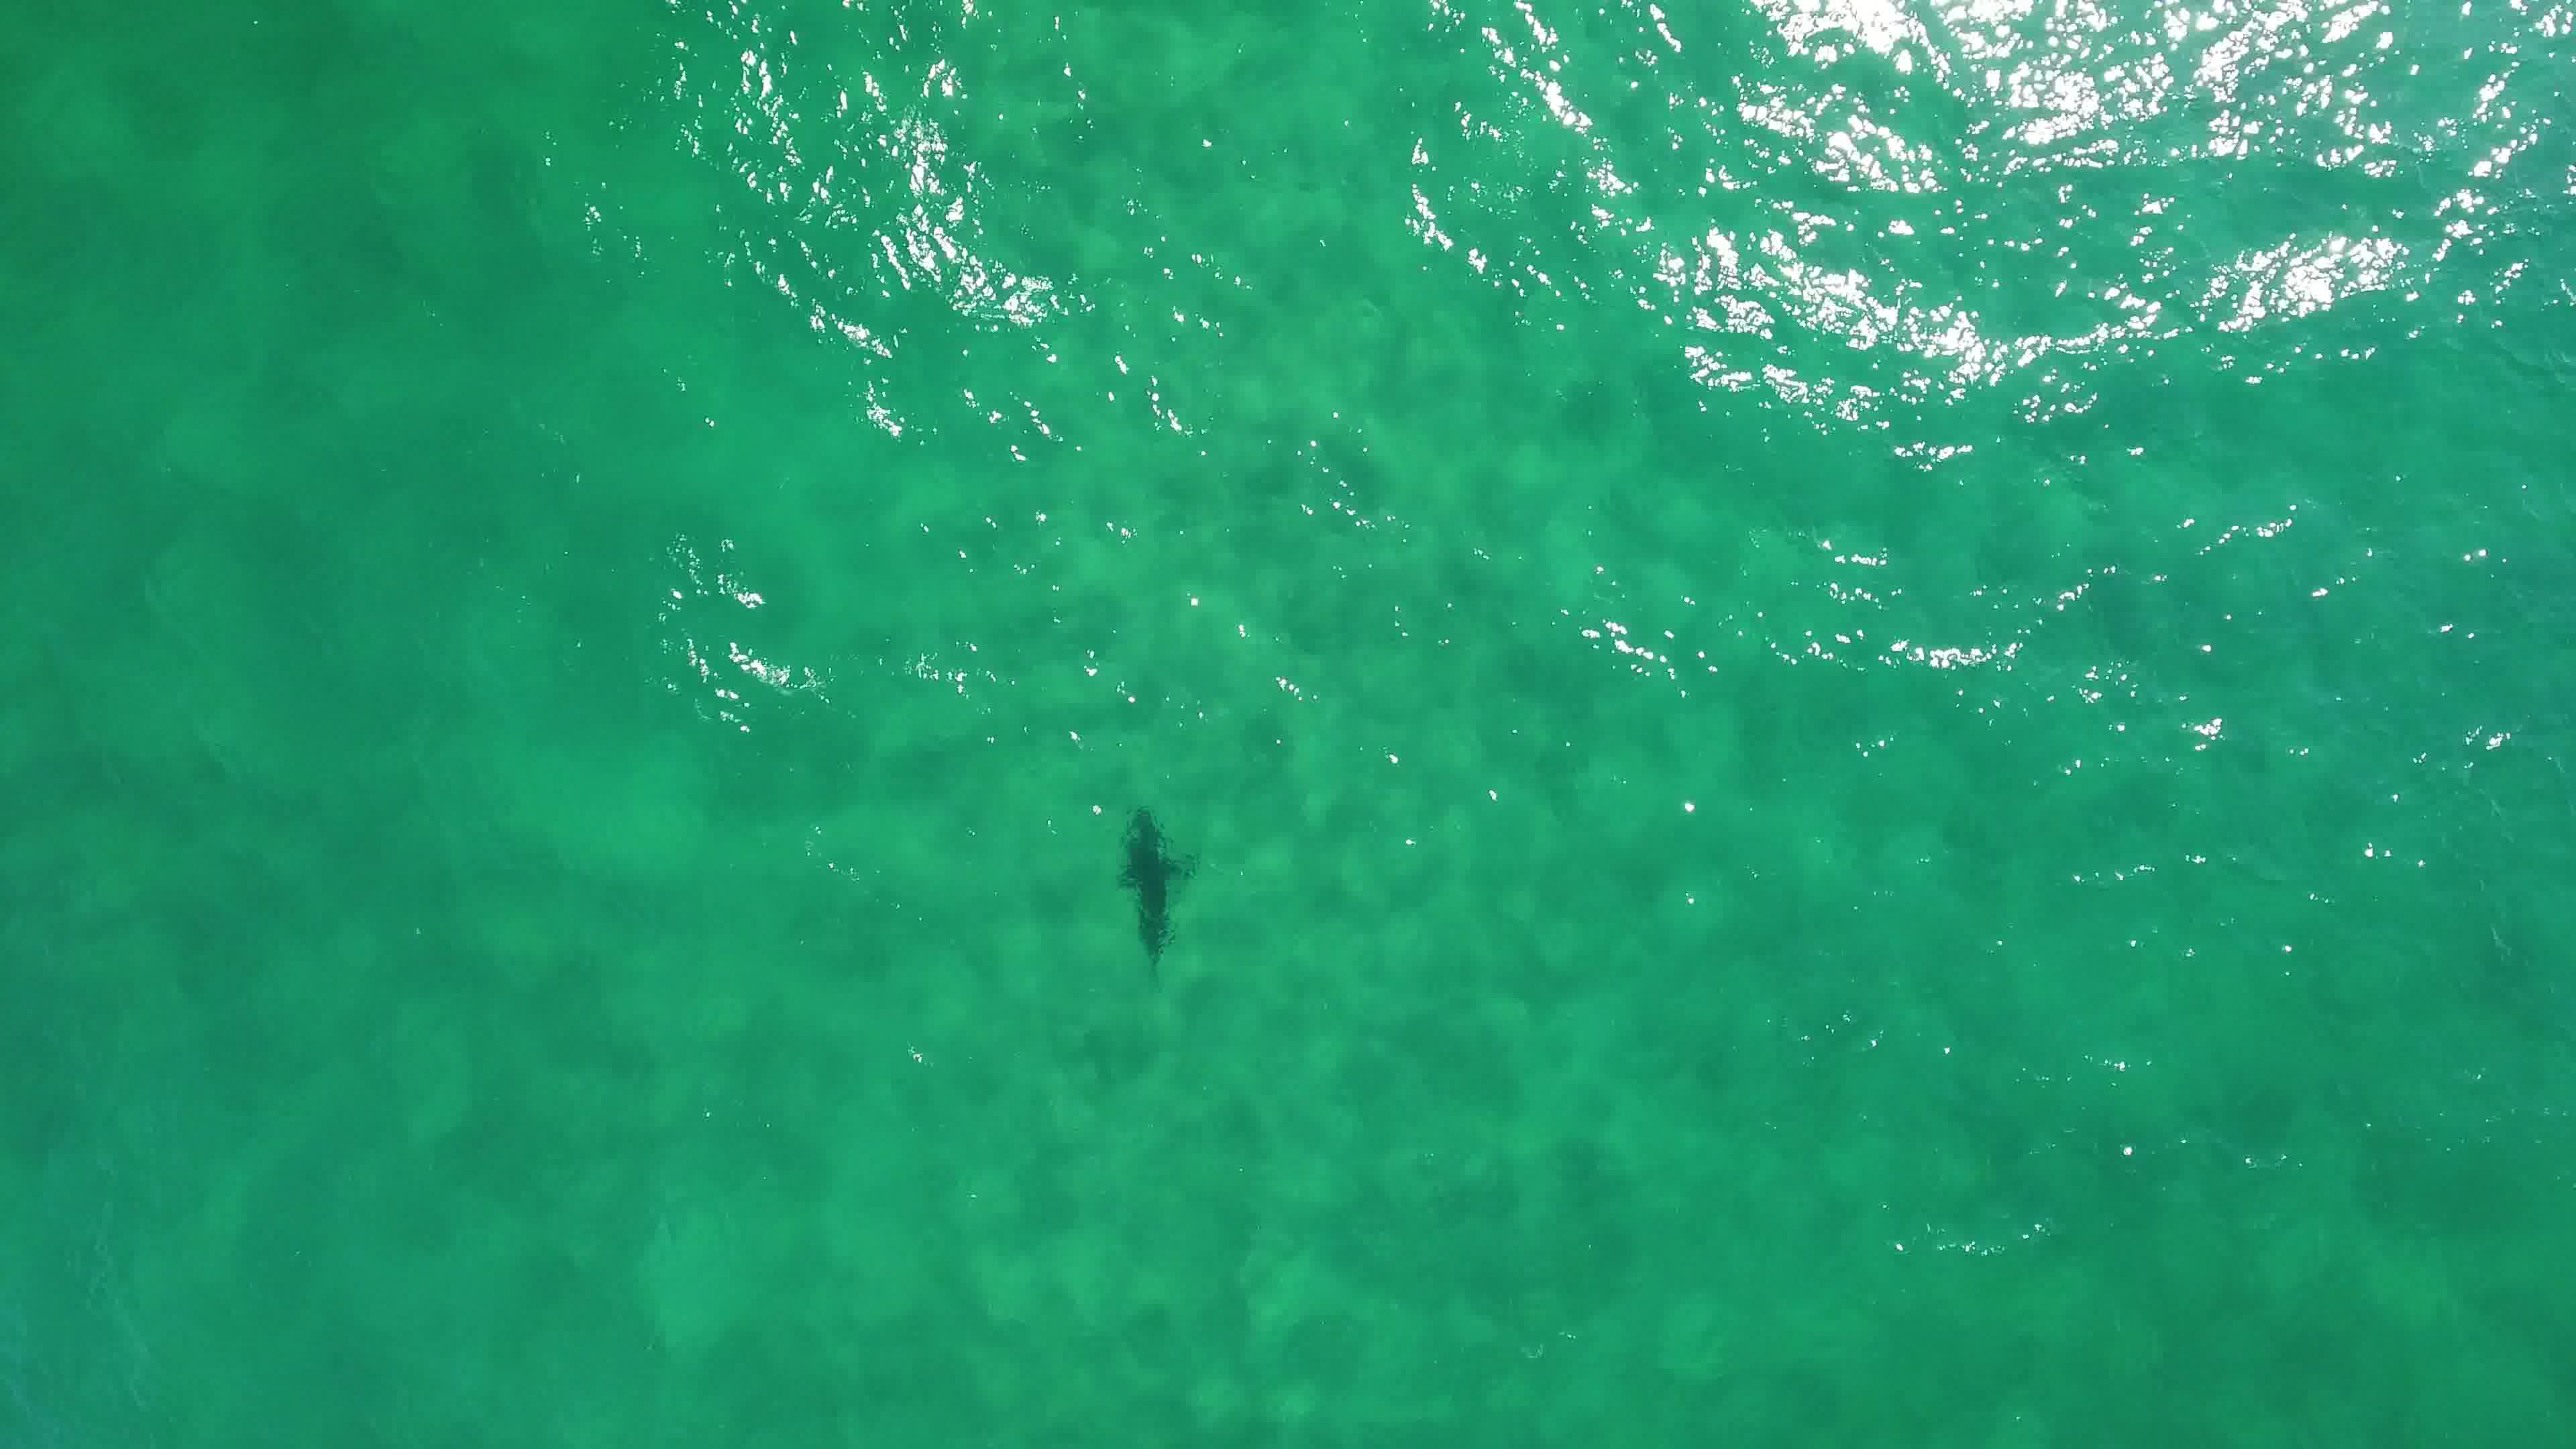shark: (1102, 805, 1201, 971)
